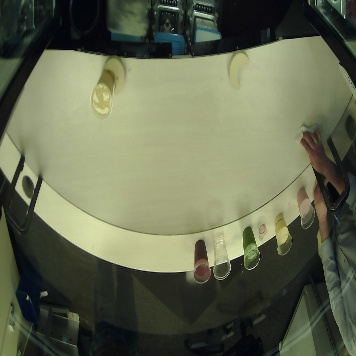empty_cup: (212, 236, 232, 281)
full_cup: (92, 71, 115, 118), (192, 239, 211, 286), (241, 225, 260, 272), (273, 211, 292, 258), (296, 185, 315, 232)
puck: (228, 51, 250, 89), (104, 56, 126, 94)
